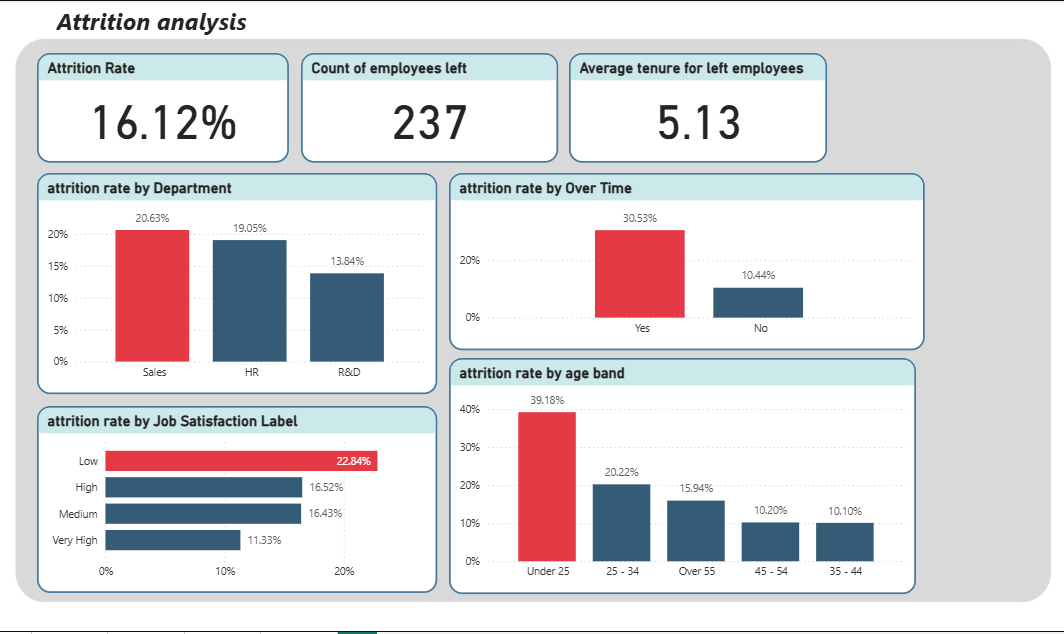

The page's visual inventory and layout, read from the dashboard file:
{"tool":"powerbi","page":{"name":"Page 4","canvas":[1280,720],"ordinal":0},"visuals":[{"type":"card","title":"Attrition Rate","fields":{"Values":["HR.attrition rate"]},"box":[70.7,60.4,286.6,124.7],"z":0},{"type":"card","title":"Count of employees left","fields":{"Values":["HR.employees left"]},"box":[371.4,60.4,293,124.7],"z":1000},{"type":"card","title":"Average tenure for left employees","fields":{"Values":["HR.Avg tenure attrition"]},"box":[677.3,60.4,294.3,124.7],"z":2000},{"type":"clusteredColumnChart","fields":{"Y":["HR.attrition rate"],"Category":["HR.Department"]},"box":[70.7,196.6,456.2,251.9],"z":3000},{"type":"columnChart","fields":{"Y":["HR.attrition rate"],"Category":["HR.Over Time"]},"box":[539.8,196.6,542.3,201.8],"z":4000},{"type":"barChart","fields":{"Category":["HR.Job Satisfaction Label"],"Y":["HR.attrition rate"]},"box":[70.7,462.7,456.2,213.3],"z":5000},{"type":"clusteredColumnChart","title":"attrition rate by age band","fields":{"Y":["HR.attrition rate"],"Category":["HR.CF_age band"]},"box":[539.8,407.4,532,268.6],"z":6000},{"type":"textbox","box":[87.4,0,379.1,110.5],"z":7000}]}

Visuals, with their boxes in screenshot pixels (x1, y1, x2, y2):
"Attrition Rate" card: (35,50,287,160)
"Count of employees left" card: (300,50,558,160)
"Average tenure for left employees" card: (569,50,828,160)
clusteredColumnChart - HR.attrition rate x HR.Department: (35,170,437,392)
columnChart - HR.attrition rate x HR.Over Time: (448,170,926,348)
barChart - HR.Job Satisfaction Label x HR.attrition rate: (35,405,437,593)
"attrition rate by age band" clusteredColumnChart: (448,356,917,593)
textbox: (49,0,383,95)
